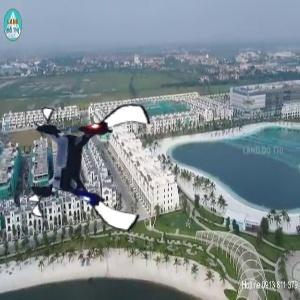drone: (26, 97, 158, 229)
